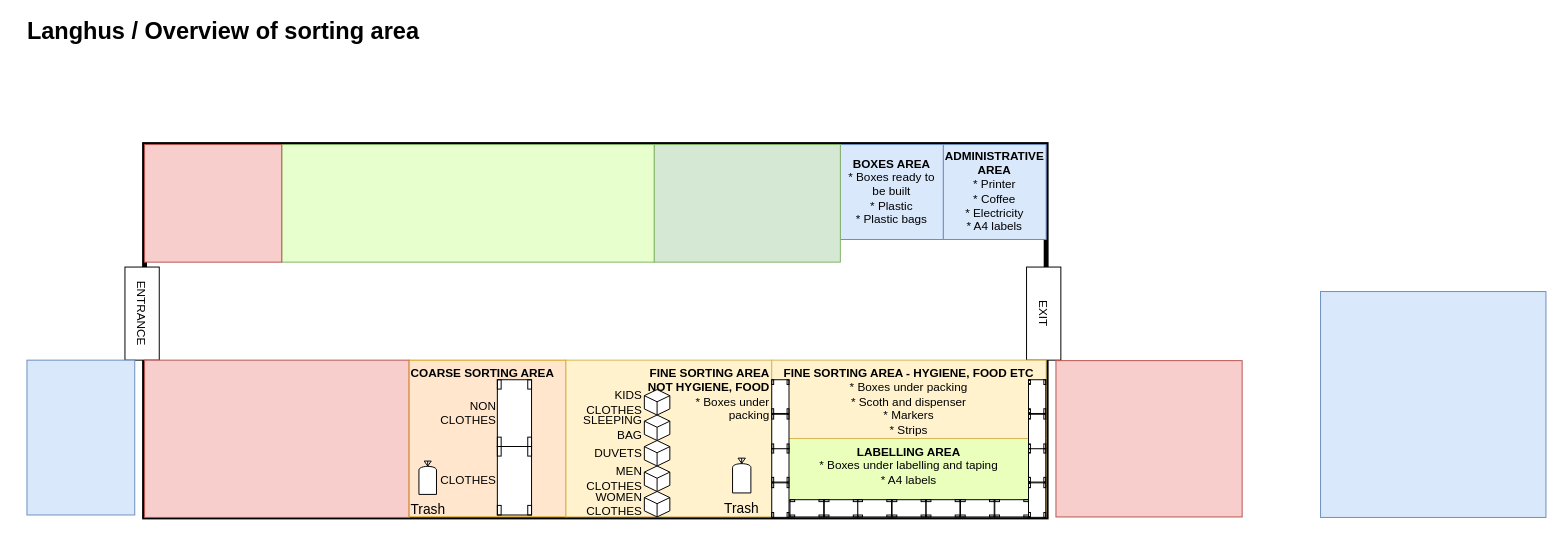
This 1563x536 diagram has some shape labels left out. Here are the shapes that lost their labels. From the top down, the centre of each, then its label:
At point 213,203: "IRRELEVANT AREA * Filled plastic bags".
At point 467,203: "PALLETS UNDER PACKING AREA * Pallets under packing".
At point 746,203: "READY FOR SHIPPING AREA * Complete pallets packaged in plastic".
At point 1433,404: "PARKING AREA".
At point 80,437: "PALLETS READY FOR USAGE".
At point 276,438: "RECEIVE AREA UNSORTED THINGS ARE HERE".
At point 1148,438: "GARBAGE AREA".
